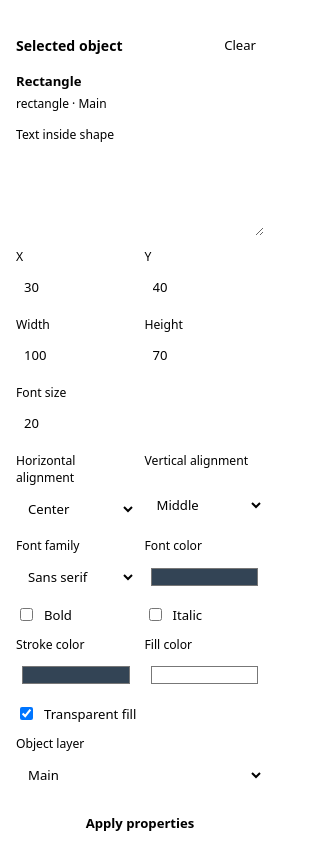
Test: canvas properties and layers › moves a selected object to a named layer and reports that layer
The width and height of the screenshot is (320, 848).
Select "Notes" in the dropdown labelled "Object layer": (140, 775) [16,757,264,793]
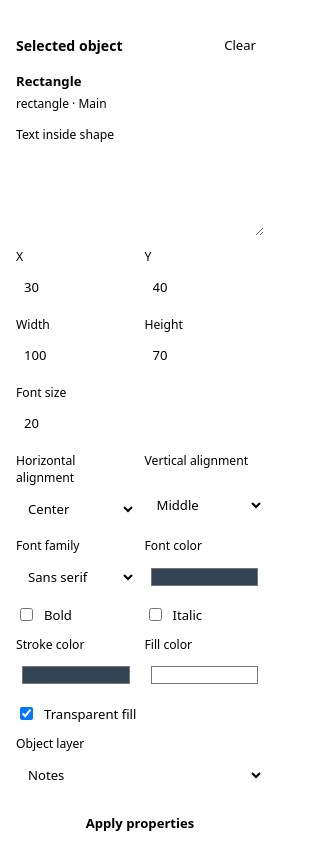
Click the button "Apply properties": (140, 823) [16,805,264,841]
(page scrolled)
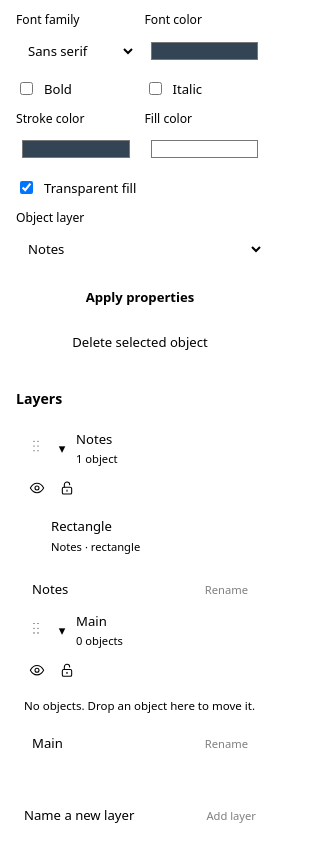
Expected: the button with aria-label "Select Rectangle on Notes" is shown, [43,511,256,560]
